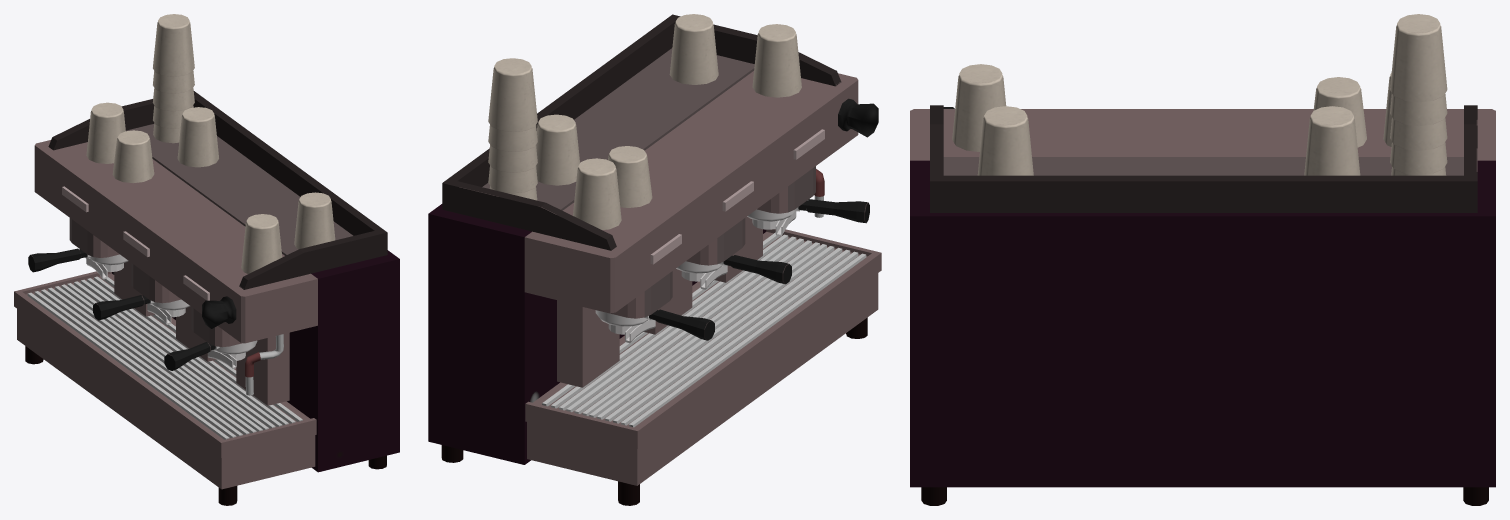
Rendered from Coffee_machine.fbx.
3 views of the same model, side by side, from view 1: azimuth 30°, elevation 25°; view 2: azimuth 150°, elevation 25°; view 3: azimuth 270°, elevation 25° (orthographic). The views are drawn at different scales.
Parts seen in each view (by area): view 1: Kawfee; view 2: Kawfee; view 3: Kawfee.
Part boxes in pixels (x1,y1,x2,y2): Kawfee: (14,14,399,505); Kawfee: (428,14,881,505); Kawfee: (910,14,1495,505).
Bounding box in the file's own units: 135 × 211 × 246.
1 material, 1 textured.
